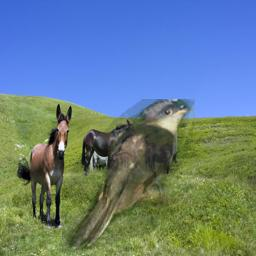Cuckoo: (62, 99, 195, 255)
